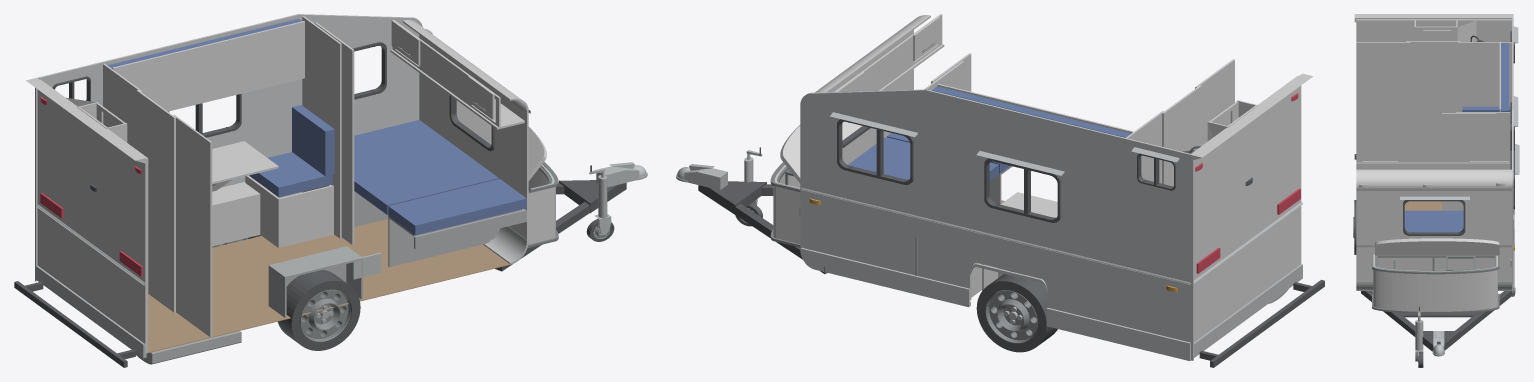
File: CORTE A.glb
3 renders of one model, left to right at view 1: azimuth 30°, elevation 25°; view 2: azimuth 150°, elevation 25°; view 3: azimuth 270°, elevation 25°, orthographic. The views are drawn at different scales.
Visible parts, largest first — view 1: Mesh_Mesh_head_geo.001_lambert2SG.001; view 2: Mesh_Mesh_head_geo.001_lambert2SG.001; view 3: Mesh_Mesh_head_geo.001_lambert2SG.001.
Part boxes in pixels (box(x1,y1,x2,y2)): Mesh_Mesh_head_geo.001_lambert2SG.001: box(14, 14, 647, 367); Mesh_Mesh_head_geo.001_lambert2SG.001: box(676, 14, 1324, 367); Mesh_Mesh_head_geo.001_lambert2SG.001: box(1353, 14, 1519, 367).
Bounding box in the file's own units: 0.312 × 0.122 × 0.107.
